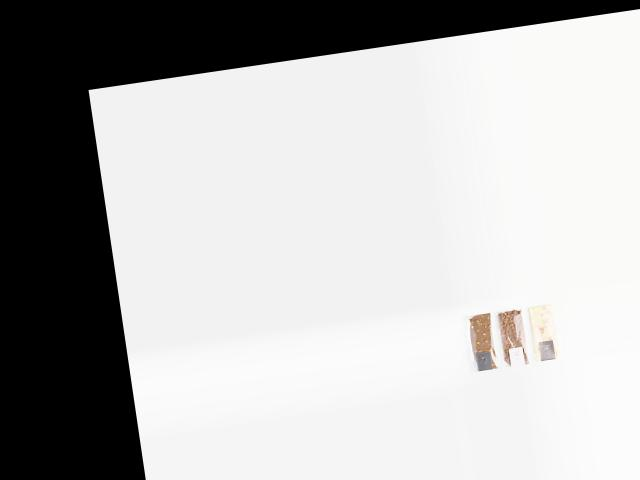chocolate: (462, 310, 497, 372)
